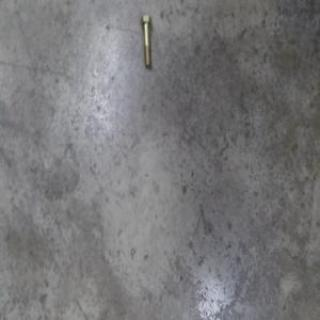Bolttrack_idkeyframe: (142, 20, 156, 72)
